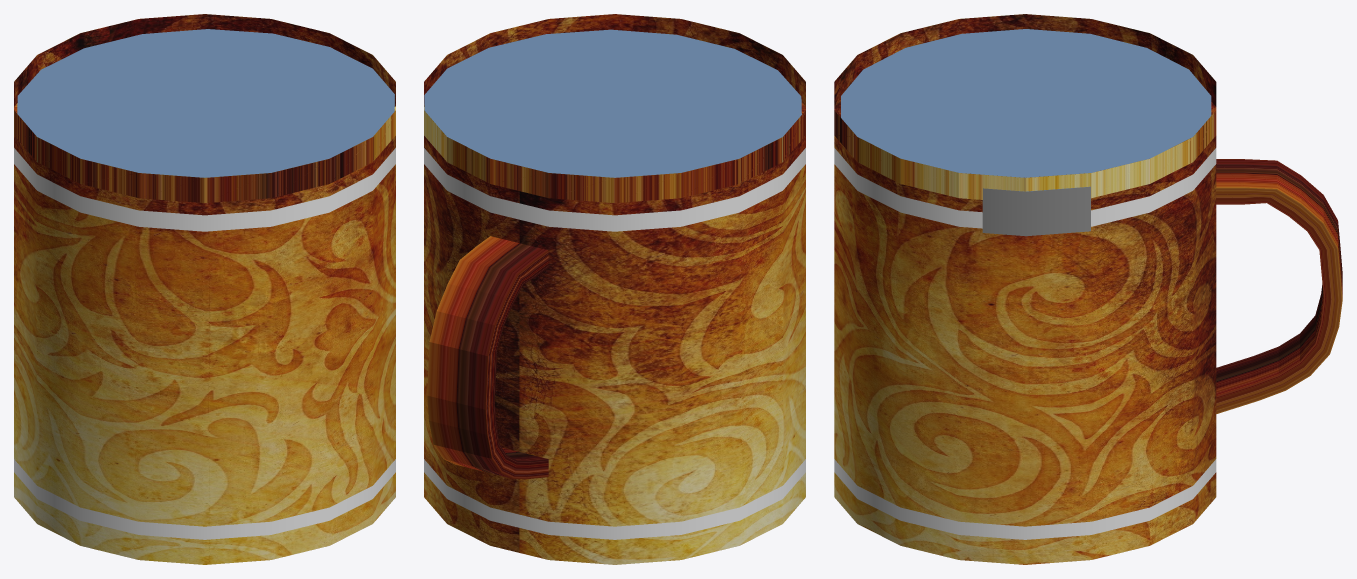
File: cup.FBX
3 views of the same model, side by side, from view 1: azimuth 30°, elevation 25°; view 2: azimuth 150°, elevation 25°; view 3: azimuth 270°, elevation 25° (orthographic).
Parts seen in each view (by area): view 1: Cylinder001, Cylinder002; view 2: Cylinder001, Cylinder002; view 3: Cylinder001, Cylinder002.
Boxes of the visible parts, box(x1,y1,x2,y2) form: Cylinder001: box(14, 14, 395, 564); Cylinder002: box(17, 29, 394, 177); Cylinder001: box(424, 14, 805, 564); Cylinder002: box(424, 29, 801, 177); Cylinder001: box(834, 14, 1342, 564); Cylinder002: box(841, 29, 1211, 236).
Bounding box in the file's own units: 11.22 × 12.35 × 14.7.
